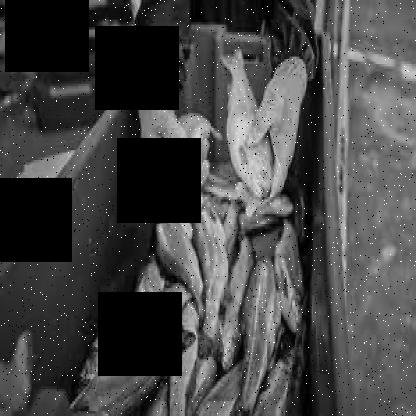fish: (219, 45, 274, 201), (160, 106, 221, 220)
